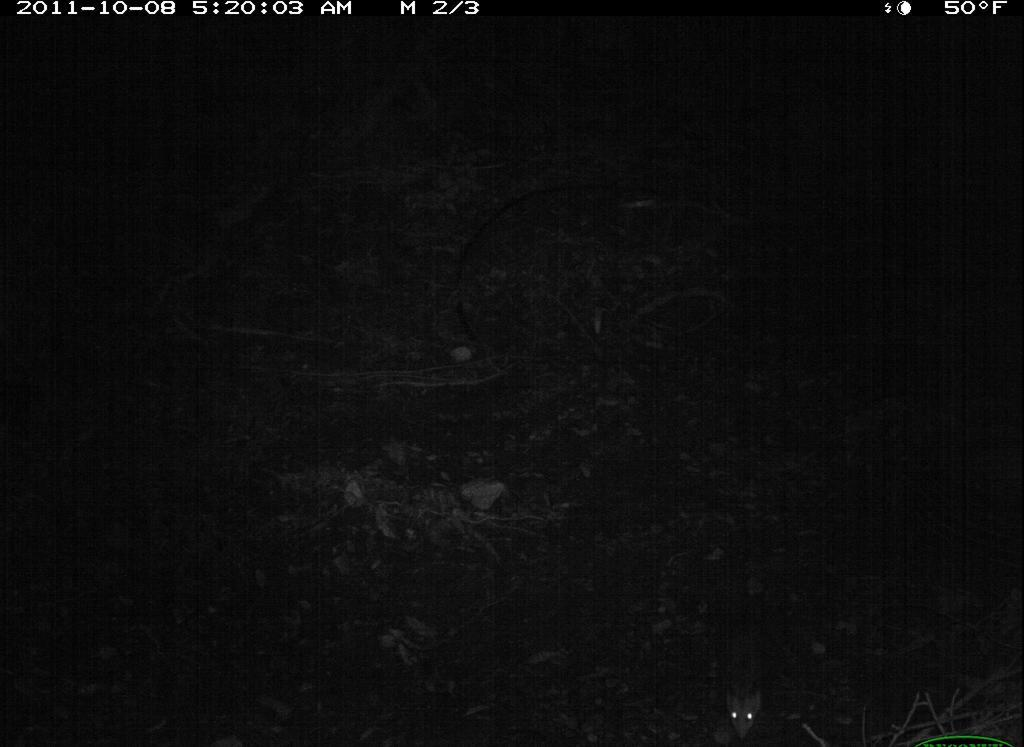opossum: (717, 602, 777, 742)
